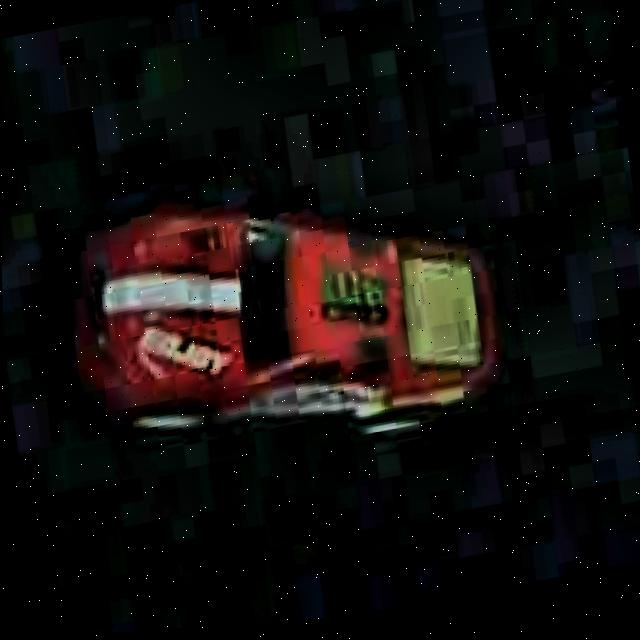car: (47, 134, 519, 503)
